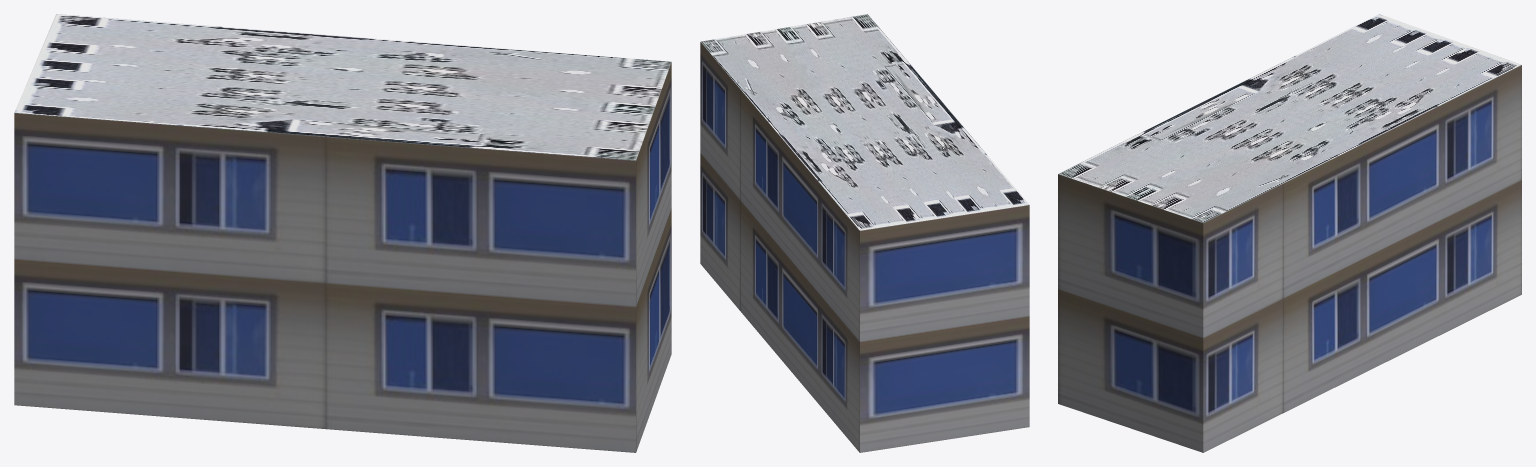
Rendered from ResTex__1192.fbx.
The picture shows the model from 3 angles, left to right: view 1: azimuth 30°, elevation 25°; view 2: azimuth 150°, elevation 25°; view 3: azimuth 270°, elevation 25°; orthographic projection. The views are drawn at different scales.
Parts seen in each view (by area): view 1: CityEngineMaterial_23_m, CityEngineMaterial_8_m; view 2: CityEngineMaterial_23_m, CityEngineMaterial_8_m; view 3: CityEngineMaterial_23_m, CityEngineMaterial_8_m.
Part boxes in pixels (x1,y1,x2,y2): CityEngineMaterial_23_m: [14, 62, 671, 452]; CityEngineMaterial_8_m: [14, 14, 671, 160]; CityEngineMaterial_23_m: [700, 42, 1029, 452]; CityEngineMaterial_8_m: [700, 14, 1029, 230]; CityEngineMaterial_23_m: [1058, 65, 1521, 452]; CityEngineMaterial_8_m: [1058, 14, 1521, 222].
Size of the model in its own units: 11.71 by 6 by 10.98.
2 materials, 2 textured.
